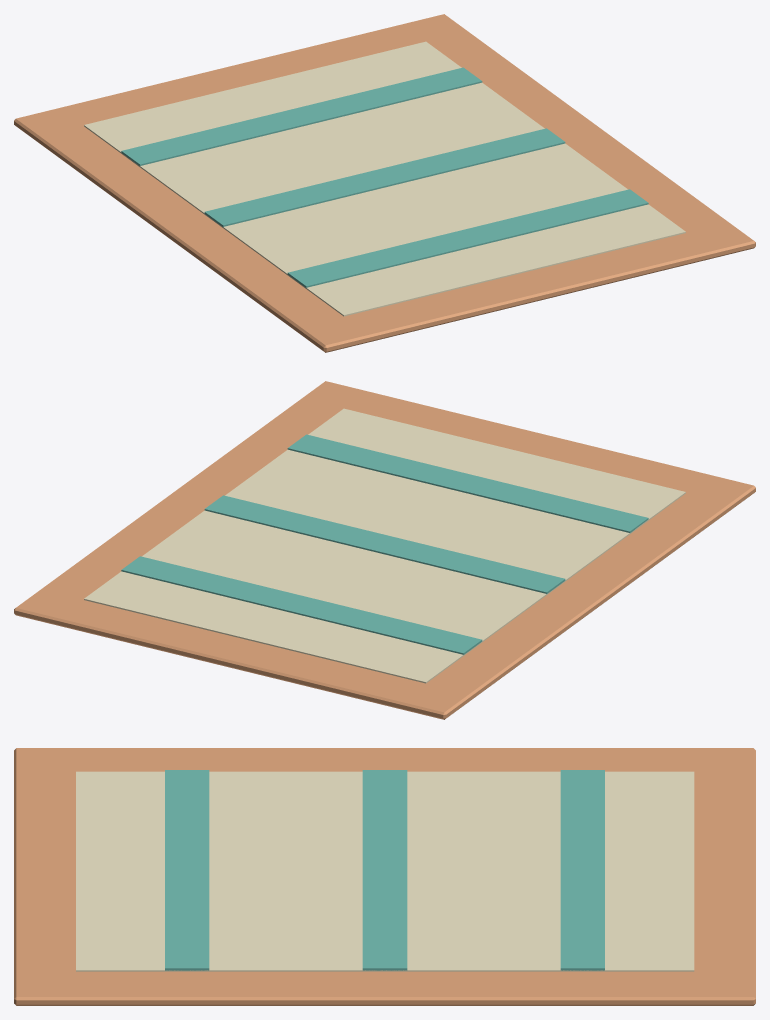
The model's file is CC_Carpet.fbx.
3 views of the same model, one above another, from view 1: azimuth 30°, elevation 25°; view 2: azimuth 150°, elevation 25°; view 3: azimuth 270°, elevation 25° (orthographic). The views are drawn at different scales.
Parts seen in each view (by area): view 1: Rug field, Rug, Rug band, Rug band.001, Rug band.002; view 2: Rug field, Rug, Rug band.002, Rug band.001, Rug band; view 3: Rug field, Rug, Rug band.001, Rug band, Rug band.002.
Part boxes in pixels (x1,y1,x2,y2): Rug field: (84,41,685,316); Rug: (14,14,755,352); Rug band: (287,189,648,287); Rug band.001: (204,128,565,226); Rug band.002: (121,67,482,165); Rug field: (84,408,685,683); Rug: (14,381,755,719); Rug band.002: (121,556,482,654); Rug band.001: (204,495,565,593); Rug band: (287,434,648,532); Rug field: (76,771,694,971); Rug: (14,748,755,1005); Rug band.001: (362,770,407,970); Rug band: (165,770,209,970); Rug band.002: (560,770,604,970).
Bounding box in the file's own units: 2.4 × 0.055 × 3.
